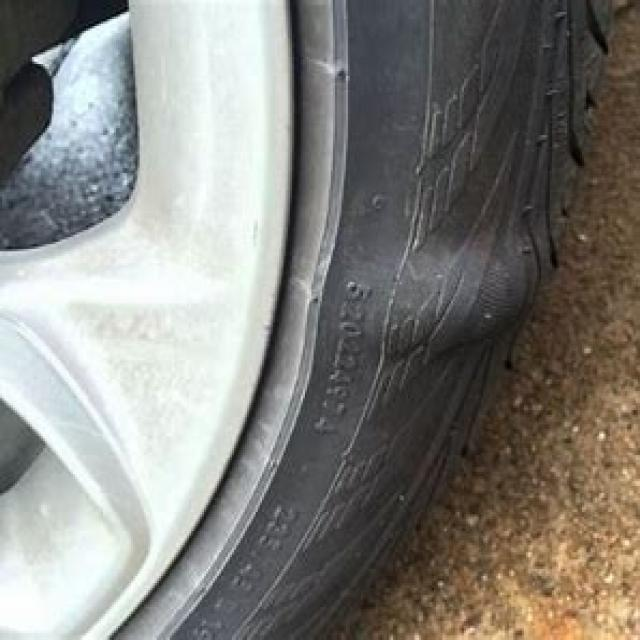Bulge: (330, 236, 529, 374)
